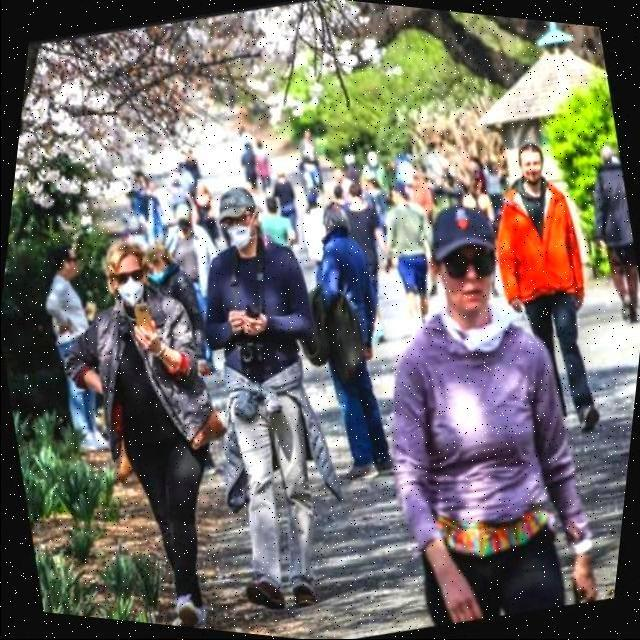mask: (228, 217, 264, 254), (122, 278, 152, 298)
no_apron: (118, 301, 170, 363), (432, 564, 482, 626), (563, 560, 611, 616), (224, 306, 280, 334)
no_hairnet: (452, 272, 496, 300), (518, 162, 540, 186)
